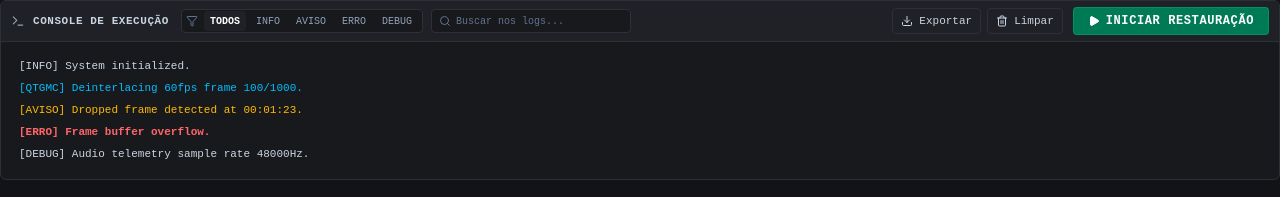
Test: ConsoleViewer Component with Live Search › filters logs by search query in real time
Type "QTGMC" into the field with placeholder "Buscar nos logs..." at {"x": 531, "y": 21}, box [431,9,631,33]
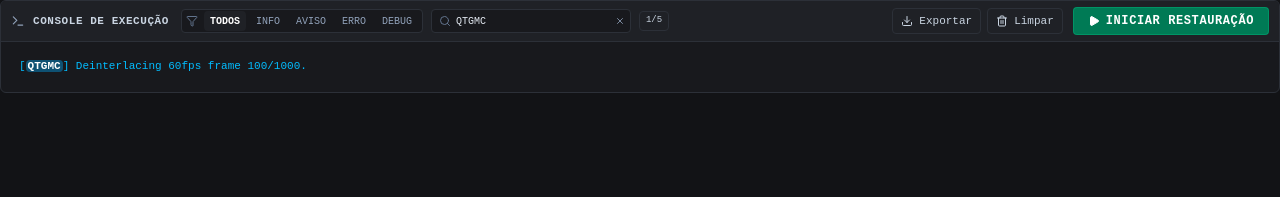
Result: the text "[QTGMC] Deinterlacing 60fps frame 100/1000." is shown at [19,60,307,72]
Result: the text "[ERRO] Frame buffer overflow." is gone
